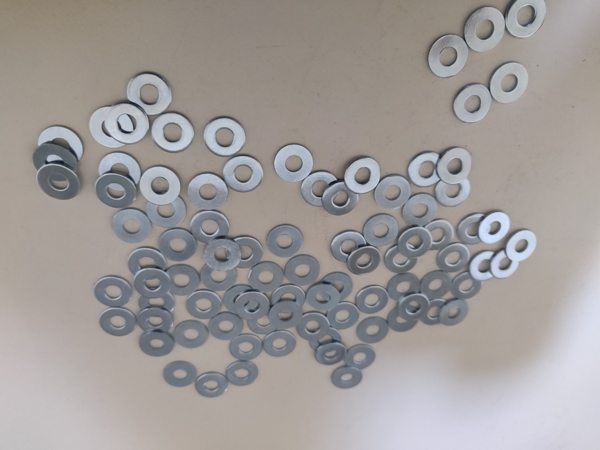circle: (125, 72, 173, 117), (90, 105, 136, 149), (463, 7, 507, 53), (150, 111, 196, 154), (488, 61, 531, 107), (105, 102, 150, 145), (428, 34, 470, 80), (37, 126, 85, 166), (99, 151, 142, 193), (273, 143, 316, 185), (203, 116, 247, 157), (504, 0, 549, 40), (34, 144, 80, 183), (140, 165, 182, 206), (453, 82, 492, 126), (223, 153, 265, 193), (37, 163, 82, 200), (300, 169, 342, 208), (95, 172, 138, 209), (189, 172, 229, 211), (343, 156, 383, 195), (190, 209, 232, 246), (145, 192, 187, 229), (112, 208, 153, 245), (158, 226, 198, 263), (417, 217, 457, 254), (401, 193, 440, 230), (323, 180, 361, 217), (375, 174, 413, 211), (408, 149, 444, 187), (285, 253, 323, 289), (439, 146, 474, 185), (383, 242, 423, 276), (137, 286, 177, 320), (436, 172, 473, 208), (128, 246, 167, 280), (94, 276, 134, 309), (477, 210, 513, 246), (456, 212, 492, 248), (330, 230, 367, 265), (267, 224, 304, 259), (227, 235, 264, 270), (363, 213, 401, 247), (204, 238, 242, 272), (248, 261, 285, 295), (200, 260, 238, 293), (224, 283, 262, 316), (165, 264, 201, 298), (436, 241, 473, 274), (134, 266, 171, 299), (268, 299, 305, 332), (418, 269, 455, 302), (245, 304, 282, 337), (186, 289, 224, 321), (387, 272, 423, 305), (397, 227, 434, 259), (208, 310, 245, 342), (324, 301, 361, 333), (346, 246, 383, 277), (386, 302, 423, 333), (99, 308, 137, 338), (505, 229, 538, 263), (470, 249, 504, 282), (235, 290, 270, 322), (272, 283, 307, 315), (262, 329, 299, 359), (356, 315, 390, 347), (450, 270, 485, 301), (162, 361, 199, 390), (137, 308, 175, 336), (489, 249, 523, 280), (356, 285, 390, 316), (174, 320, 209, 350), (297, 312, 332, 342), (418, 297, 453, 327), (139, 330, 175, 359), (196, 370, 230, 400), (230, 333, 264, 363), (321, 272, 355, 302), (308, 282, 342, 312), (437, 298, 472, 327), (313, 341, 350, 368), (398, 292, 431, 322), (344, 343, 378, 372), (330, 364, 365, 392), (228, 360, 259, 388)
